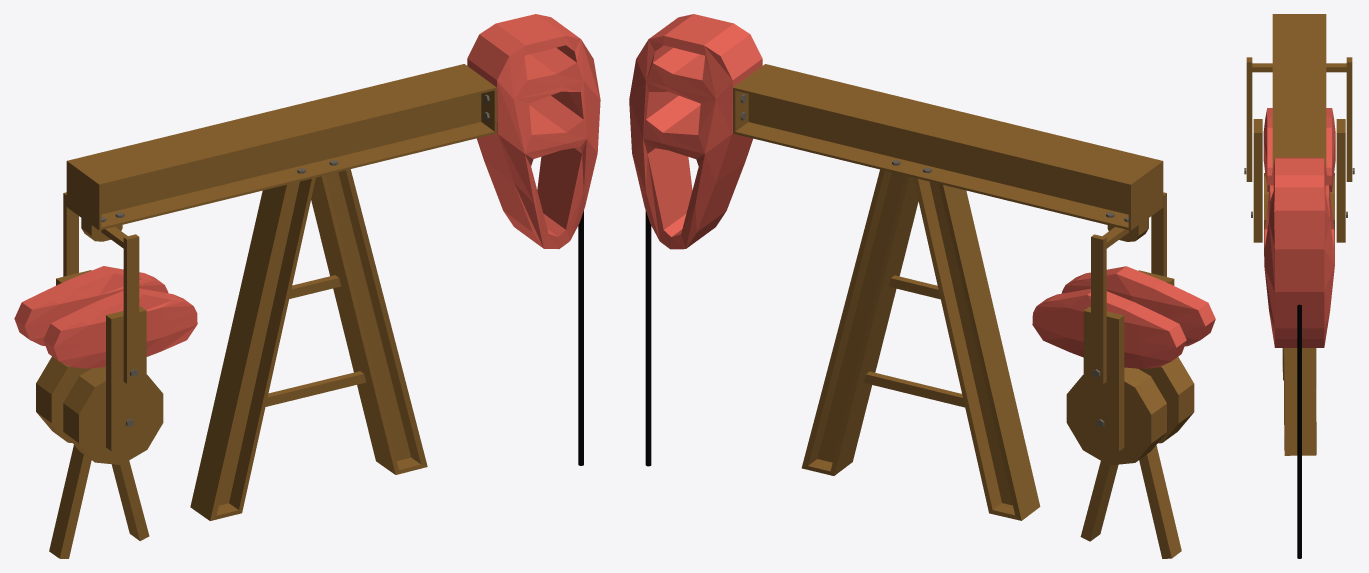
3 renders of one model, left to right at view 1: azimuth 30°, elevation 25°; view 2: azimuth 150°, elevation 25°; view 3: azimuth 270°, elevation 25°, orthographic. The views are drawn at different scales.
Parts seen in each view (by area): view 1: Cube.004, Cube.016, Cube.002, Cube.001, Cube.015, Cylinder.001, Cube.010, Cube.013, Cube.008, Cube.012, Cylinder, Cube.003 (+3 smaller); view 2: Cube.004, Cube.016, Cube.002, Cube.001, Cube.013, Cylinder, Cube.009, Cube.015, Cube.007, Cube.012, Cylinder.001, Cube.003 (+3 smaller); view 3: Cube.016, Cube.004, Cube.001, Cylinder.003, Cube.009, Cube.010, Cube.007, Cube.008, Cube.013, Cube.015, Cube.006, Cylinder.001 (+1 smaller).
Boxes of the visible parts, x1=… form: Cube.004: x1=66, y1=64, x2=496, y2=230; Cube.016: x1=467, y1=14, x2=600, y2=249; Cube.002: x1=190, y1=177, x2=315, y2=520; Cube.001: x1=311, y1=169, x2=427, y2=474; Cube.015: x1=43, y1=288, x2=197, y2=368; Cylinder.001: x1=63, y1=367, x2=163, y2=464; Cube.010: x1=106, y1=306, x2=146, y2=451; Cube.013: x1=14, y1=266, x2=168, y2=345; Cube.008: x1=123, y1=234, x2=139, y2=383; Cube.012: x1=49, y1=445, x2=91, y2=558; Cylinder: x1=36, y1=356, x2=91, y2=442; Cube.003: x1=265, y1=275, x2=366, y2=406; Cube.004: x1=733, y1=64, x2=1163, y2=230; Cube.016: x1=629, y1=14, x2=762, y2=249; Cube.002: x1=913, y1=177, x2=1040, y2=520; Cube.001: x1=801, y1=169, x2=918, y2=475; Cube.013: x1=1032, y1=288, x2=1186, y2=368; Cylinder: x1=1066, y1=367, x2=1166, y2=465; Cube.009: x1=1083, y1=307, x2=1124, y2=451; Cube.015: x1=1061, y1=266, x2=1215, y2=346; Cube.007: x1=1091, y1=234, x2=1106, y2=384; Cube.012: x1=1139, y1=445, x2=1181, y2=558; Cylinder.001: x1=1138, y1=357, x2=1194, y2=443; Cube.003: x1=864, y1=275, x2=964, y2=407; Cube.016: x1=1264, y1=157, x2=1334, y2=347; Cube.004: x1=1272, y1=14, x2=1326, y2=169; Cube.001: x1=1283, y1=348, x2=1316, y2=455; Cylinder.003: x1=1297, y1=304, x2=1301, y2=558; Cube.009: x1=1336, y1=119, x2=1345, y2=242; Cube.010: x1=1253, y1=119, x2=1262, y2=242; Cube.007: x1=1346, y1=57, x2=1352, y2=181; Cube.008: x1=1246, y1=57, x2=1252, y2=181; Cube.013: x1=1326, y1=108, x2=1335, y2=191; Cube.015: x1=1263, y1=108, x2=1272, y2=191; Cube.006: x1=1252, y1=63, x2=1346, y2=72; Cylinder.001: x1=1264, y1=173, x2=1268, y2=256.
Size of the model in its own units: 61.85 by 47.95 by 12.96.
